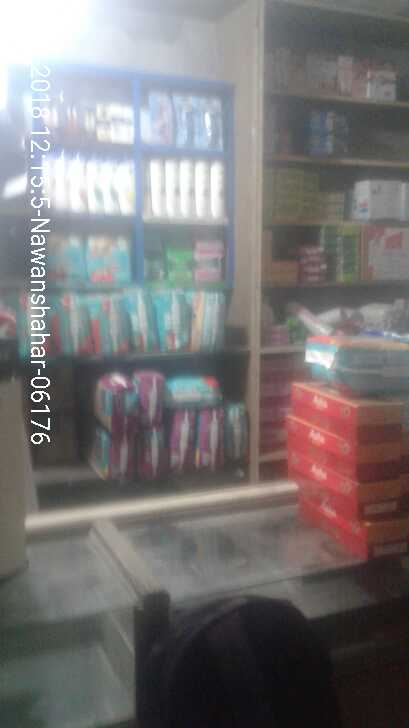venus: (171, 94, 196, 150), (196, 97, 222, 150), (151, 94, 171, 143)
